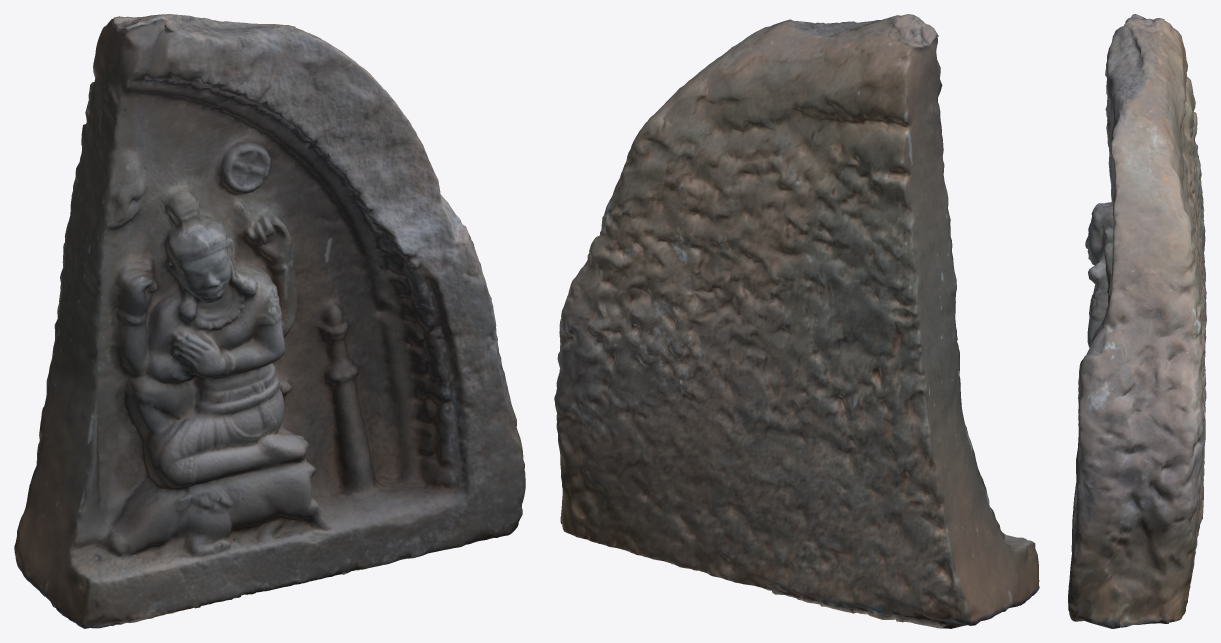
The model's file is TuongChamPaMobile.glb.
3 views of the same model, side by side, from view 1: azimuth 30°, elevation 25°; view 2: azimuth 150°, elevation 25°; view 3: azimuth 270°, elevation 25° (orthographic). The views are drawn at different scales.
Visible parts, largest first — view 1: TuongChampa_Autounwrap_TuongChampa_Autounwrap_0; view 2: TuongChampa_Autounwrap_TuongChampa_Autounwrap_0; view 3: TuongChampa_Autounwrap_TuongChampa_Autounwrap_0.
Part boxes in pixels (box(x1,y1,x2,y2)): TuongChampa_Autounwrap_TuongChampa_Autounwrap_0: box(14, 14, 525, 628); TuongChampa_Autounwrap_TuongChampa_Autounwrap_0: box(554, 14, 1039, 628); TuongChampa_Autounwrap_TuongChampa_Autounwrap_0: box(1068, 14, 1206, 628).
Bounding box in the file's own units: 27.93 × 33.94 × 9.04.
Materials: 1 (1 with a texture image).
